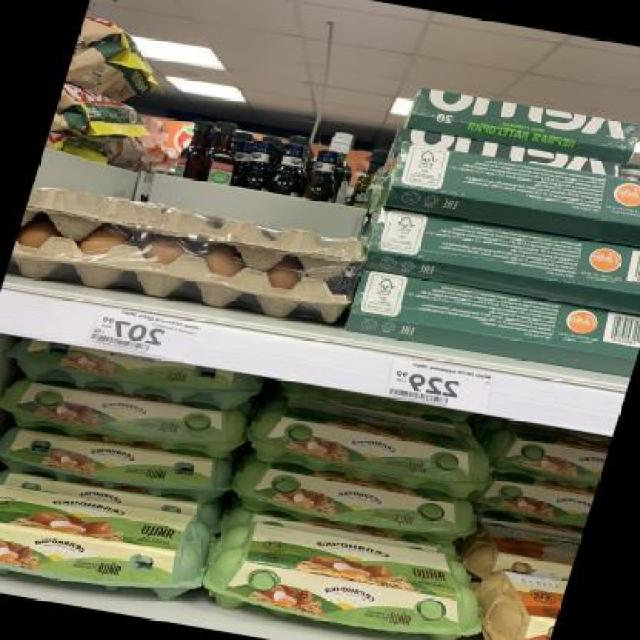Egg: (197, 513, 500, 639), (0, 472, 225, 611), (236, 392, 507, 502), (219, 456, 489, 552), (0, 372, 255, 464), (0, 415, 240, 511), (0, 337, 265, 417), (474, 419, 611, 492), (454, 519, 580, 592), (460, 566, 568, 640), (471, 473, 595, 533), (298, 117, 371, 206), (197, 119, 250, 189), (235, 130, 287, 198), (267, 130, 316, 200), (170, 112, 220, 180)
